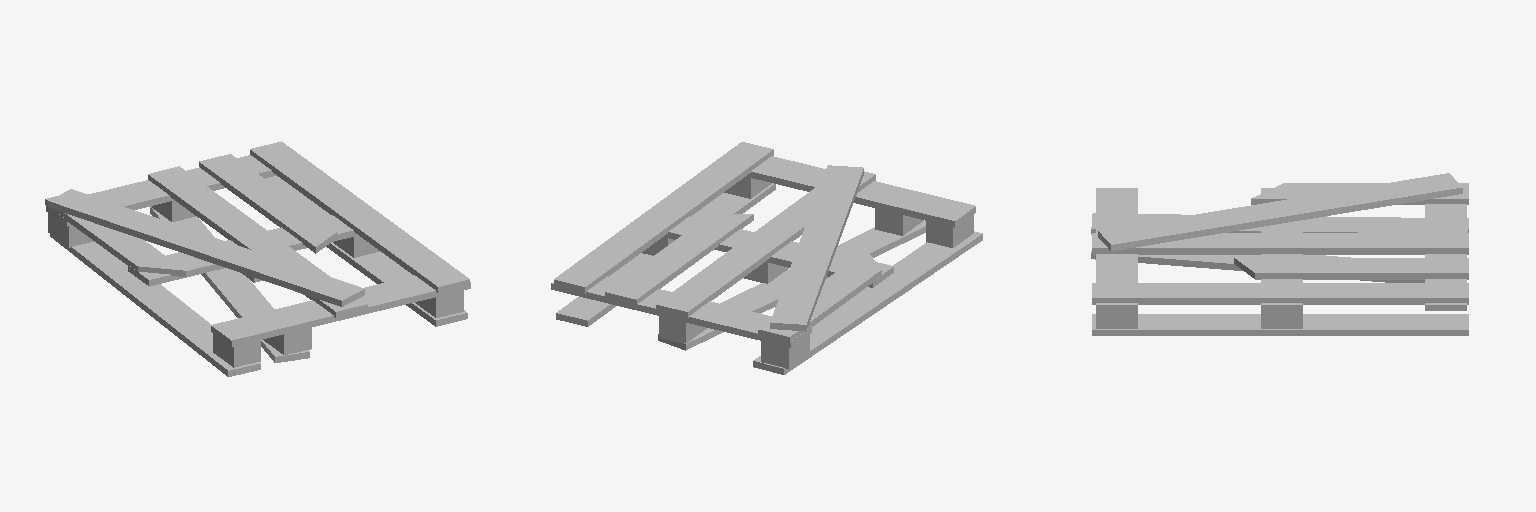
The model's file is Pallet_Broken.obj.
3 views of the same model, side by side, from view 1: azimuth 30°, elevation 25°; view 2: azimuth 150°, elevation 25°; view 3: azimuth 270°, elevation 25° (orthographic).
Parts seen in each view (by area): view 1: Pallet_Broken_Cube.037; view 2: Pallet_Broken_Cube.037; view 3: Pallet_Broken_Cube.037.
Boxes of the visible parts, x1,y1,x2,y2 form: Pallet_Broken_Cube.037: [45, 141, 470, 376]; Pallet_Broken_Cube.037: [551, 142, 982, 374]; Pallet_Broken_Cube.037: [1091, 173, 1468, 335].
Size of the model in its own units: 0.9173 by 0.1639 by 1.22.